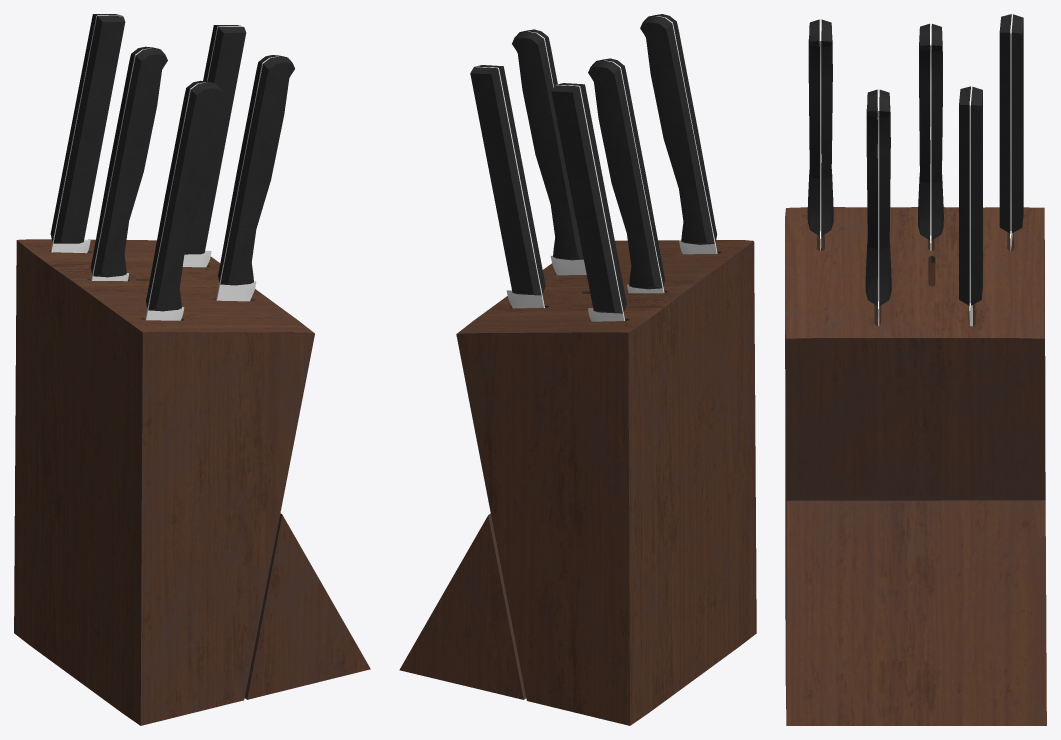
Rendered from SM_KnifeSet_A.fbx.
3 renders of one model, left to right at view 1: azimuth 30°, elevation 25°; view 2: azimuth 150°, elevation 25°; view 3: azimuth 270°, elevation 25°, orthographic. The views are drawn at different scales.
Parts seen in each view (by area): view 1: SM_KnifeSet_A; view 2: SM_KnifeSet_A; view 3: SM_KnifeSet_A.
Boxes of the visible parts, x1=… form: SM_KnifeSet_A: x1=14, y1=14, x2=370, y2=725; SM_KnifeSet_A: x1=399, y1=14, x2=756, y2=725; SM_KnifeSet_A: x1=785, y1=14, x2=1046, y2=725.
Bounding box in the file's own units: 12.02 × 11.47 × 30.43.
Materials: 1 (1 with a texture image).
